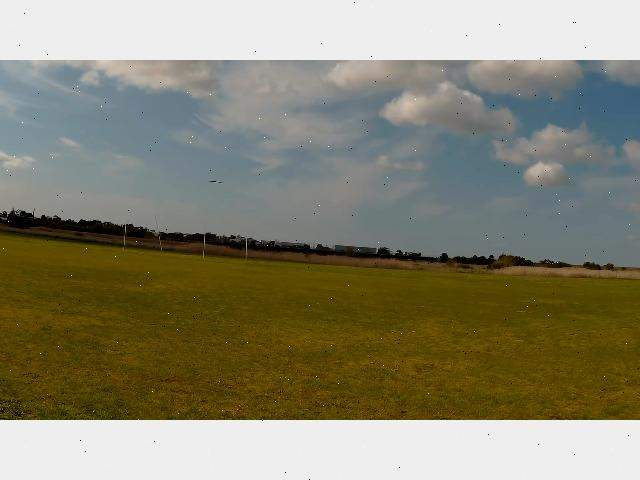Anti-Drone: (199, 172, 235, 194)
